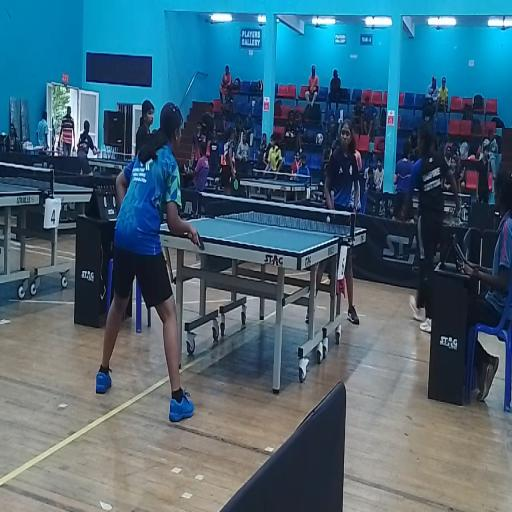ball: (326, 216, 330, 224)
